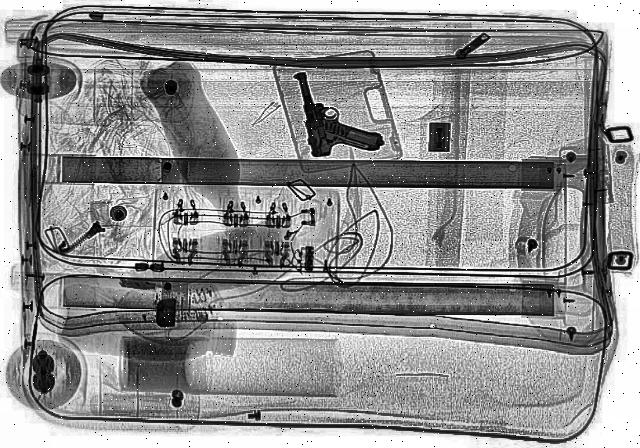Gun: (292, 67, 386, 159)
